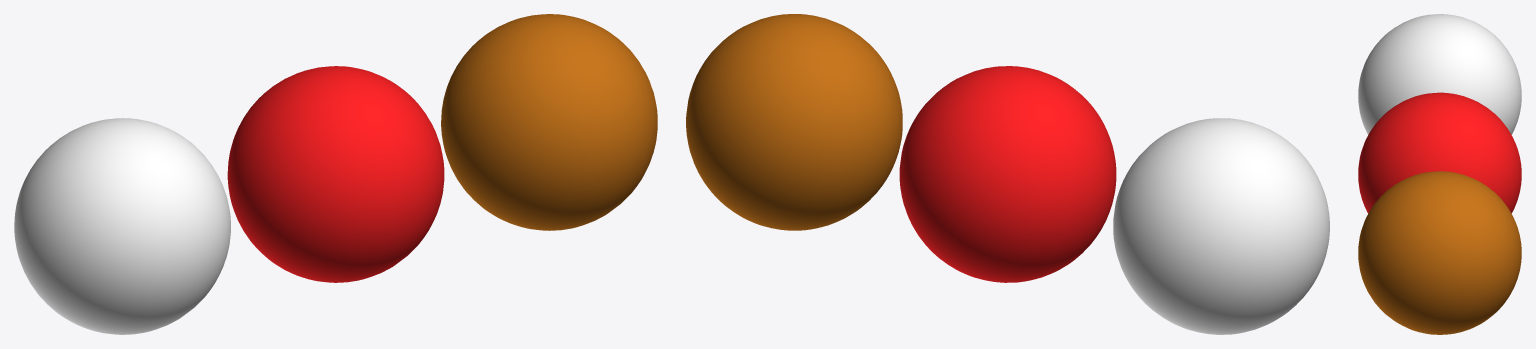
Rendered from hdri-studio-sphere.glb.
The picture shows the model from 3 angles, left to right: view 1: azimuth 30°, elevation 25°; view 2: azimuth 150°, elevation 25°; view 3: azimuth 270°, elevation 25°; orthographic projection. The views are drawn at different scales.
Parts seen in each view (by area): view 1: Chrome, Plastic, Rough Gold; view 2: Plastic, Chrome, Rough Gold; view 3: Rough Gold, Chrome, Plastic.
Boxes of the visible parts, x1,y1,x2,y2 form: Chrome: (14, 118, 230, 334); Plastic: (227, 66, 444, 282); Rough Gold: (441, 14, 657, 230); Plastic: (899, 66, 1116, 282); Chrome: (1113, 118, 1329, 334); Rough Gold: (686, 14, 902, 230); Rough Gold: (1358, 171, 1521, 334); Chrome: (1358, 14, 1521, 134); Plastic: (1358, 92, 1521, 213).
Bounding box in the file's own units: 1.44 × 0.44 × 0.4397.
